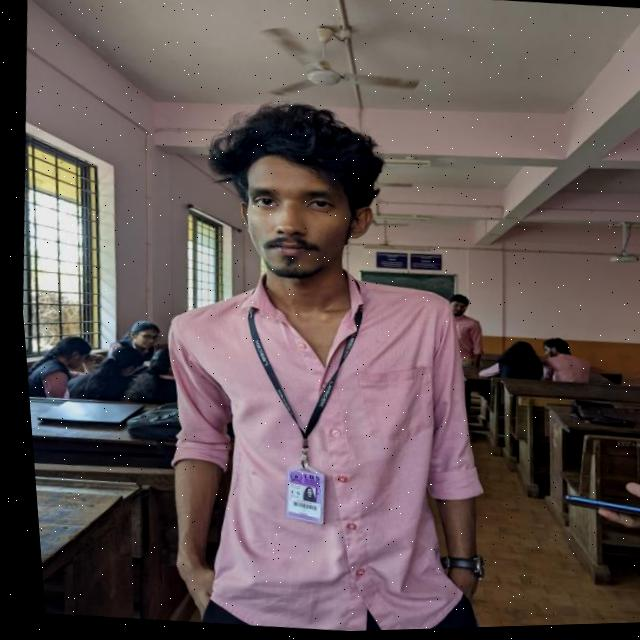id_card: (206, 281, 381, 542)
